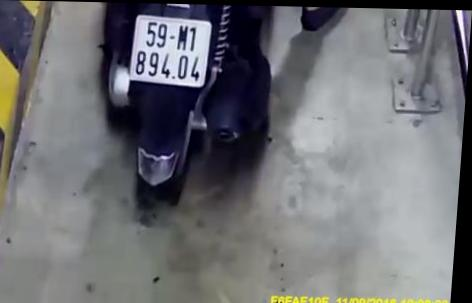License_Plate: (125, 15, 217, 96)
